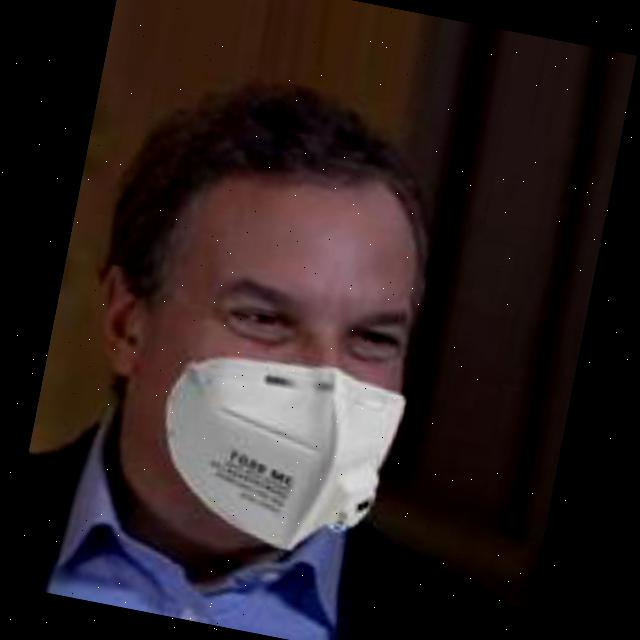suspicion: (67, 70, 446, 594)
